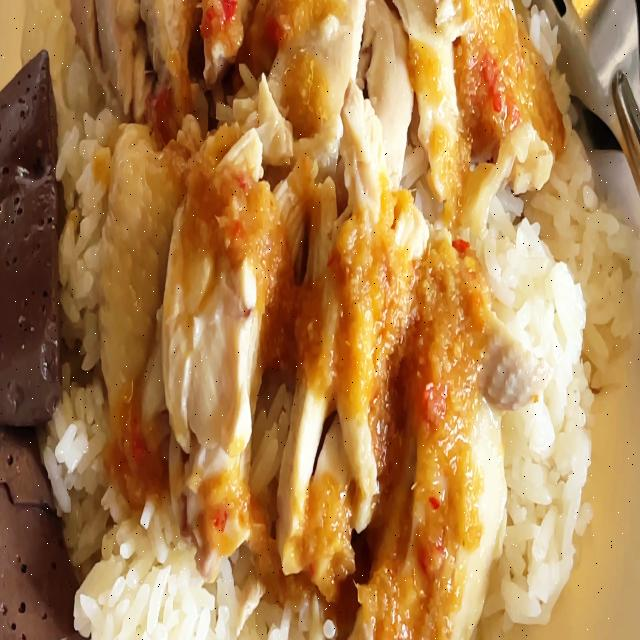boiled_chicken: (77, 0, 520, 571)
boiled_chicken_blood_jelly: (0, 52, 62, 424), (0, 416, 69, 640)
chicken_rice: (0, 0, 637, 640)
